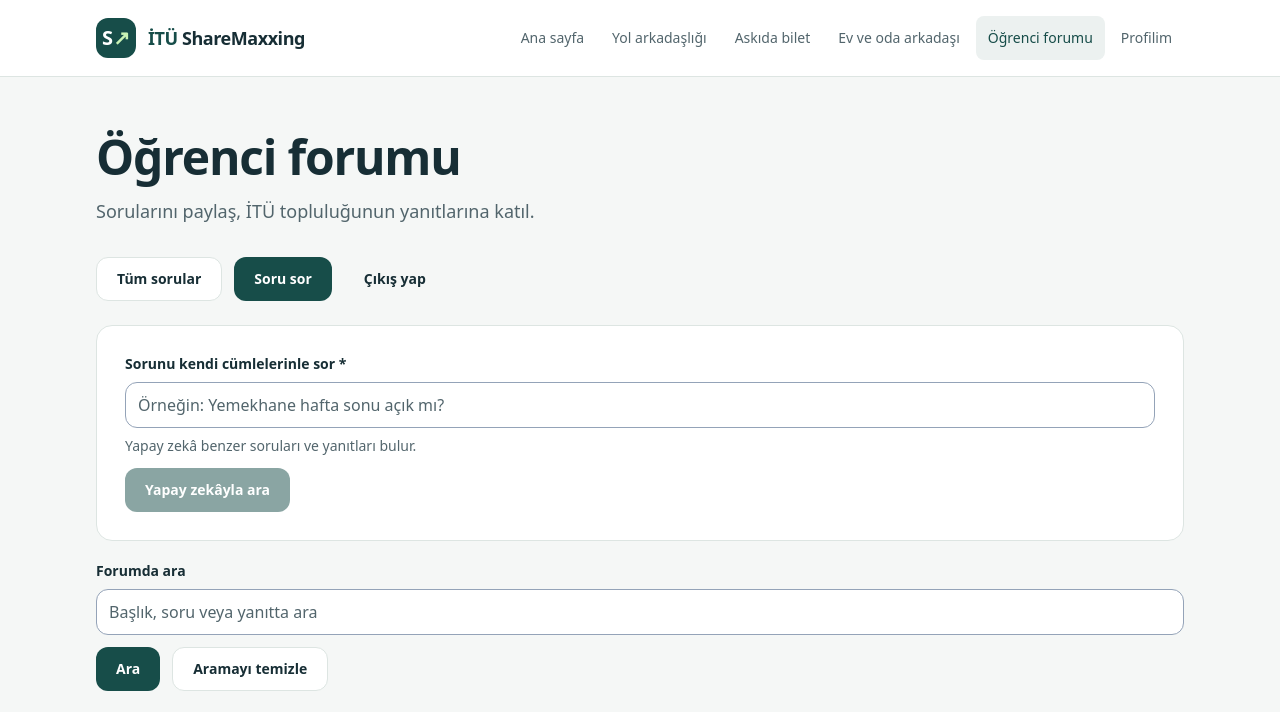
Test case: shows related posts with links to their questions
Step 1. Type "Hafta sonu yemek nerede yenir?" into the field labelled "Sorunu kendi cümlelerinle sor *" → (640, 405), box [125,382,1155,428]
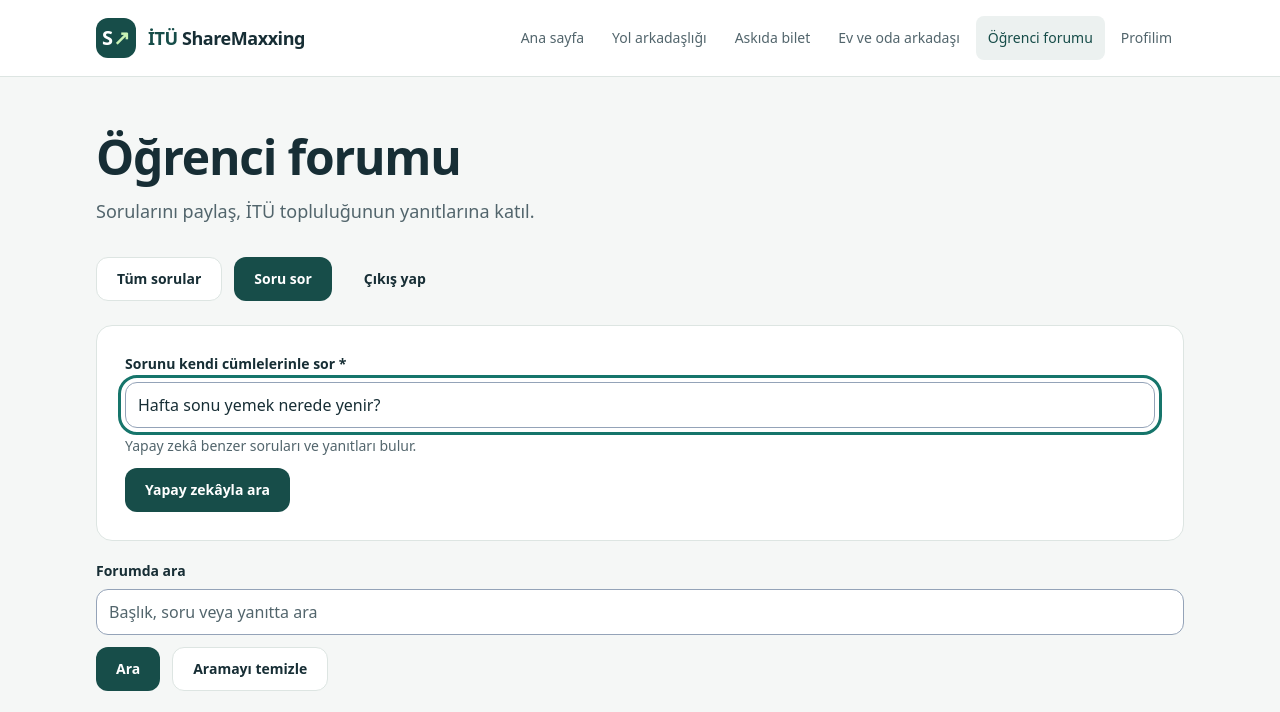
Step 2. Click the button "Yapay zekâyla ara" → (208, 490), box [125,468,290,512]
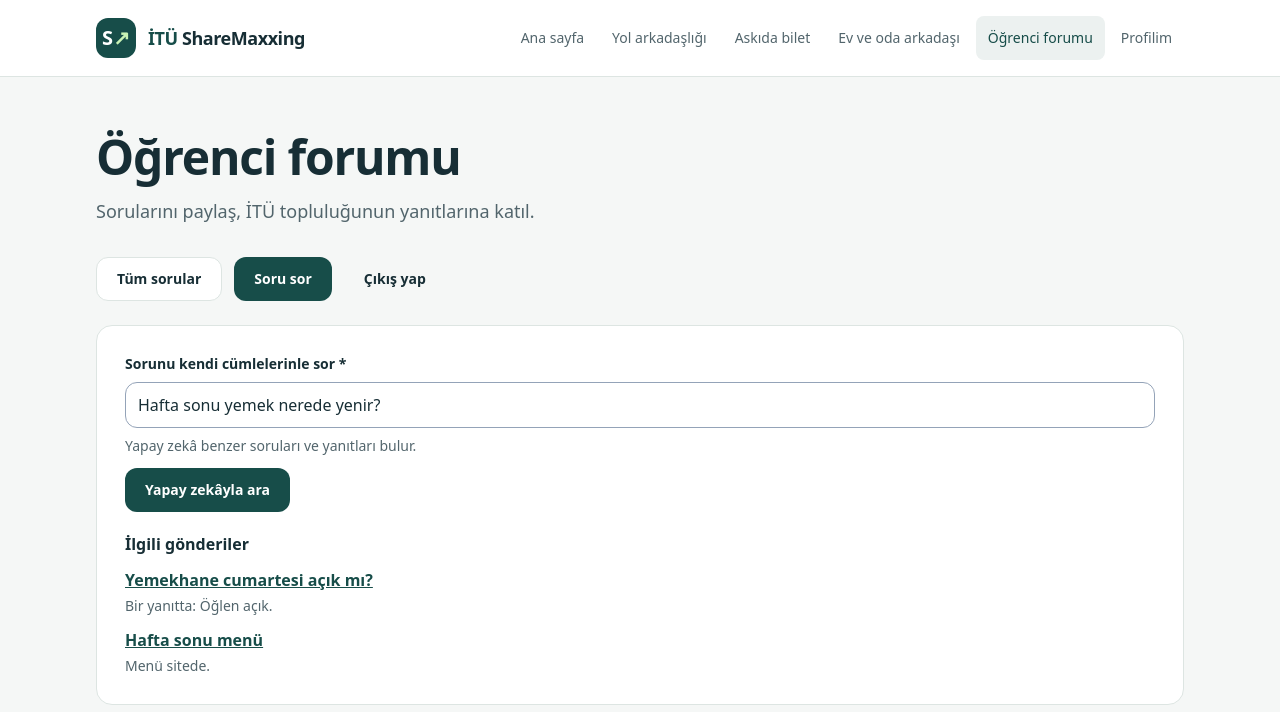
Result: the text "Bir yanıtta: Öğlen açık." is shown at [125,596,272,615]
